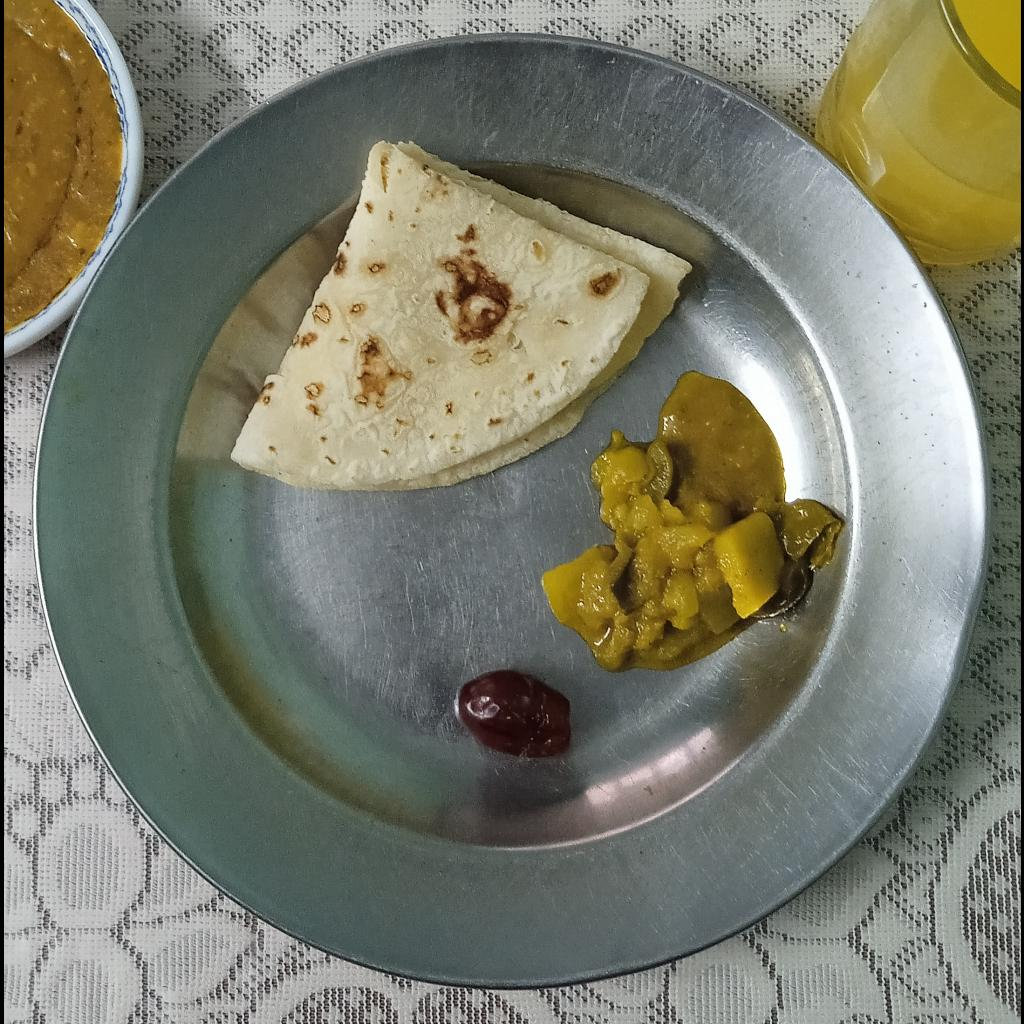daal: (3, 0, 122, 333)
dates: (452, 668, 569, 758)
juice: (952, 0, 1020, 89)
ruti: (227, 140, 691, 499)
vegetable: (572, 429, 841, 674)
